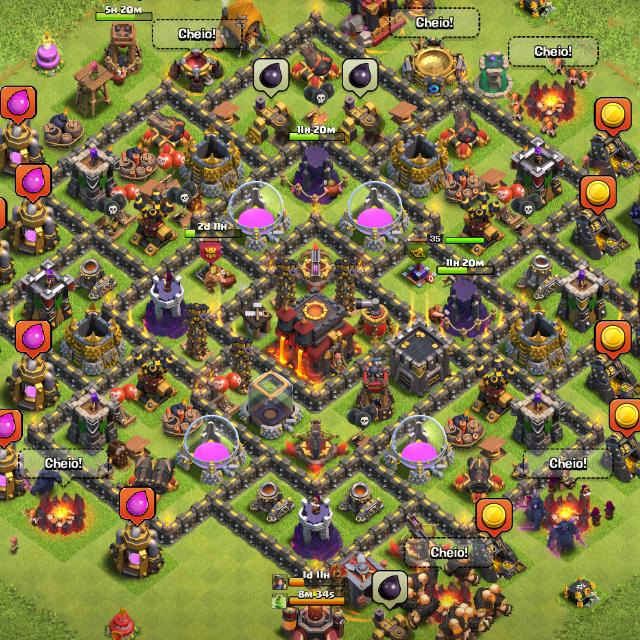ElixirNegro: (252, 58, 290, 99), (342, 59, 379, 100), (372, 570, 408, 611)
FullCoin: (475, 497, 514, 539), (593, 320, 632, 362), (579, 174, 617, 216), (594, 96, 633, 136), (608, 398, 640, 439)
FullElixir: (13, 319, 52, 362), (14, 163, 53, 204), (118, 486, 156, 528), (1, 86, 37, 126), (0, 409, 23, 449)
